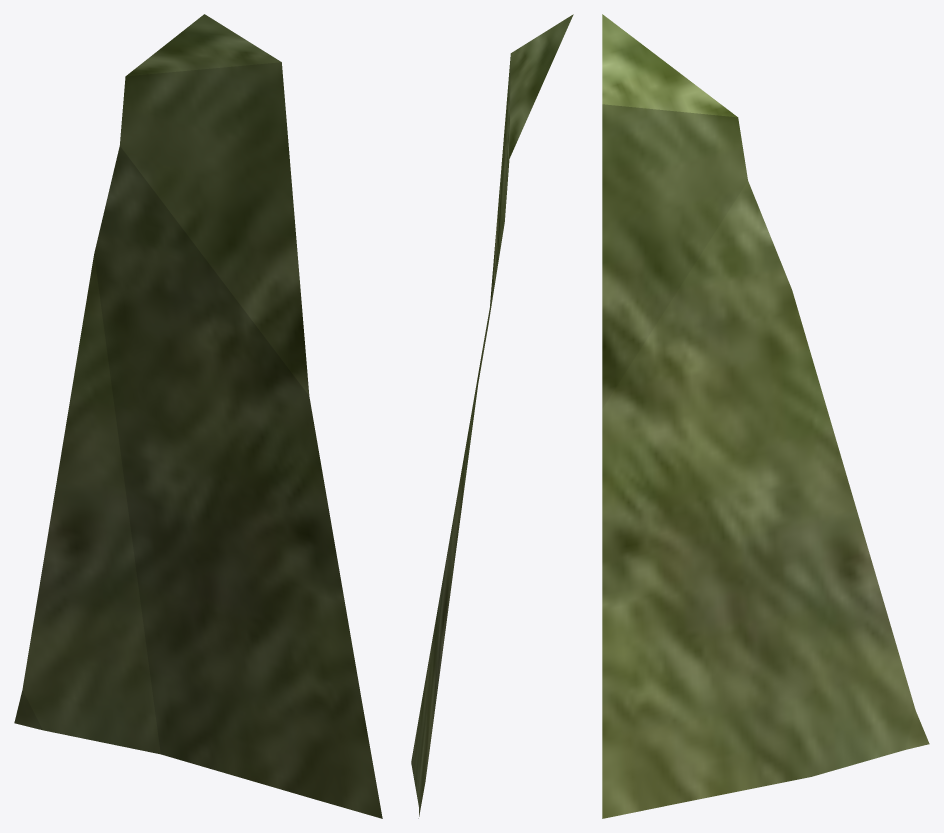
3 views of the same model, side by side, from view 1: azimuth 30°, elevation 25°; view 2: azimuth 150°, elevation 25°; view 3: azimuth 270°, elevation 25° (orthographic). The views are drawn at different scales.
Bounding box in the file's own units: 0.3578 × 1.63 × 0.6614.
Materials: 1 (1 with a texture image).
